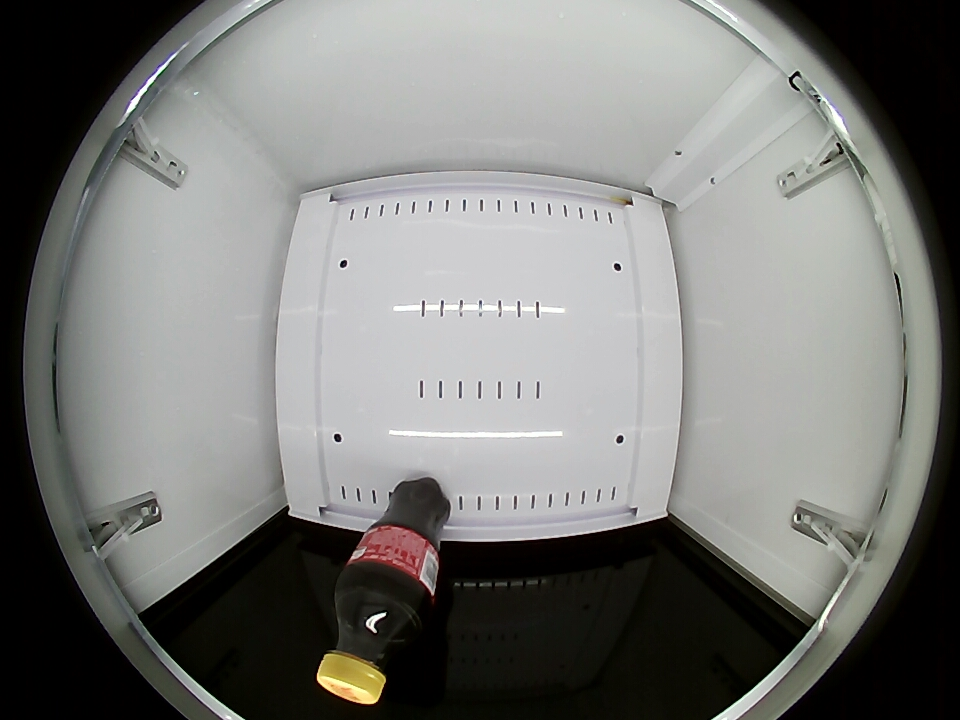kele-b-2: (317, 590, 427, 704)
